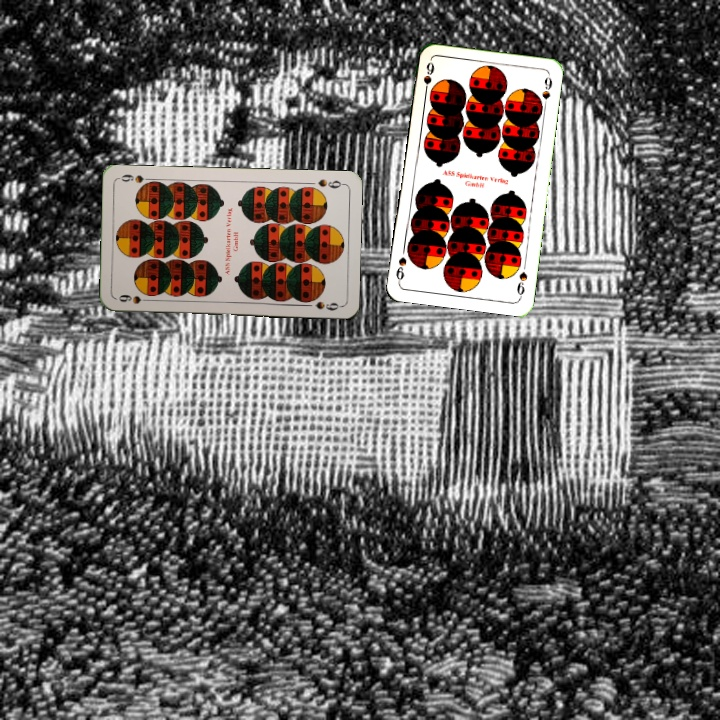S9: (419, 58, 437, 98), (115, 290, 154, 306), (512, 268, 530, 300), (314, 175, 346, 191)
